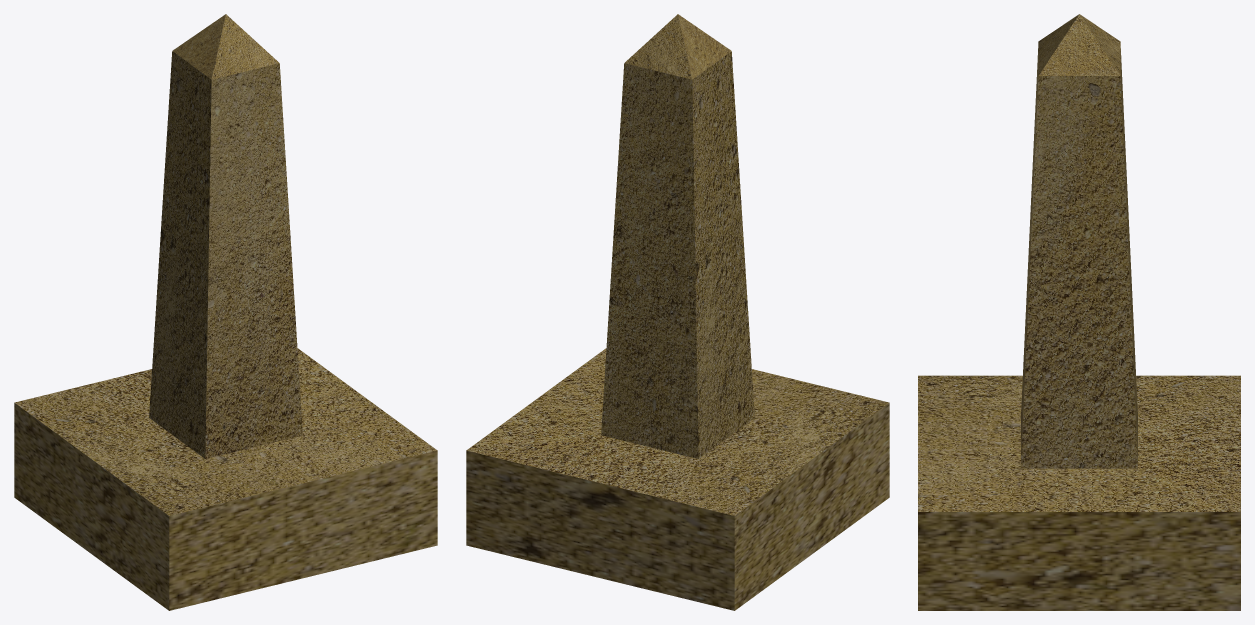
Rendered from SandColumn.glb.
3 renders of one model, left to right at view 1: azimuth 30°, elevation 25°; view 2: azimuth 150°, elevation 25°; view 3: azimuth 270°, elevation 25°, orthographic. The views are drawn at different scales.
Parts seen in each view (by area): view 1: SolidFloor; view 2: SolidFloor; view 3: SolidFloor.
Boxes of the visible parts, x1=… form: SolidFloor: x1=14, y1=14, x2=437, y2=610; SolidFloor: x1=466, y1=14, x2=889, y2=610; SolidFloor: x1=918, y1=14, x2=1240, y2=610.
Bounding box in the file's own units: 2 × 3.61 × 2.
1 material, 1 textured.
